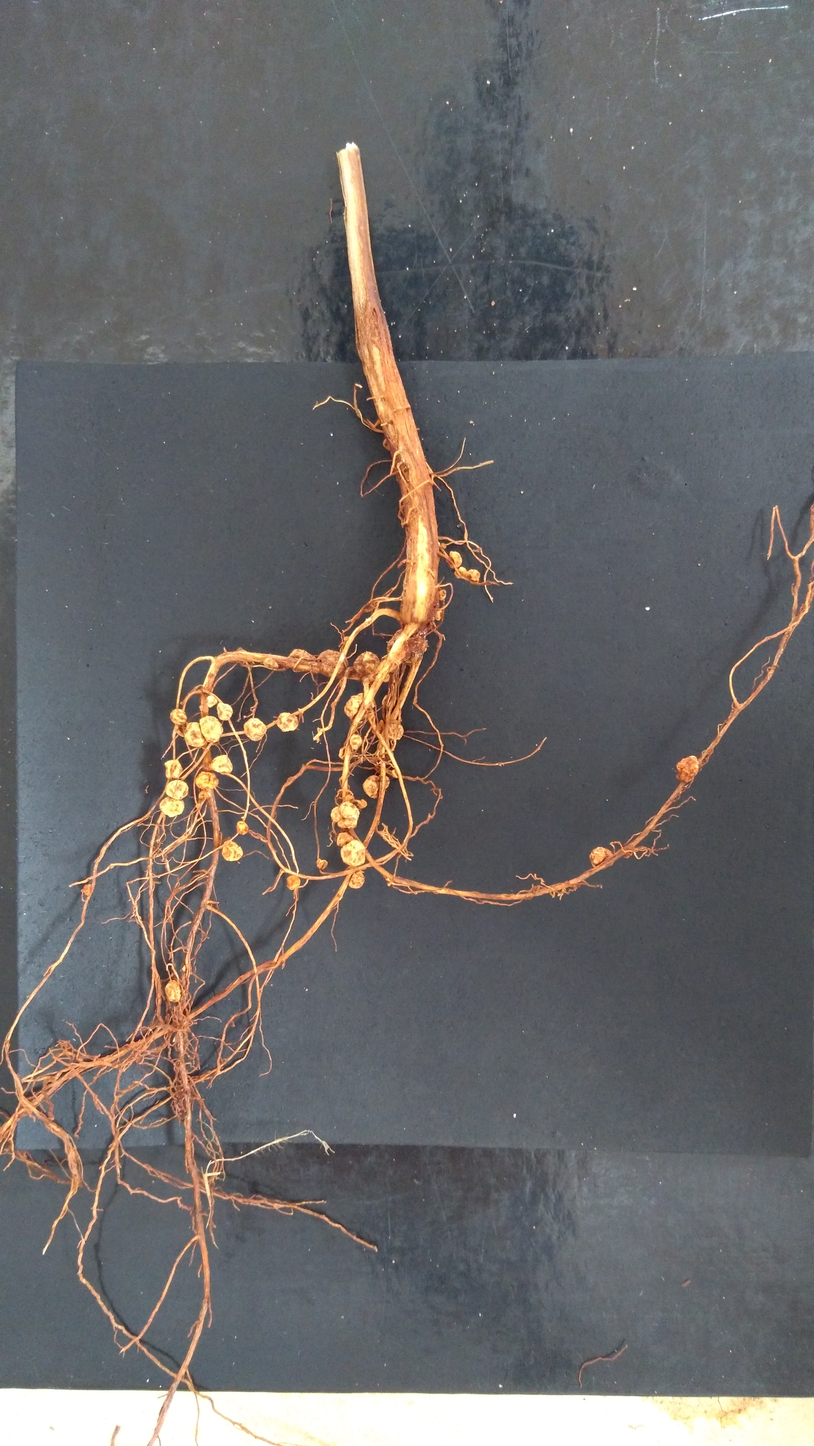nodule: (316, 649, 349, 679), (329, 800, 359, 830), (338, 838, 367, 866), (674, 754, 701, 784), (199, 716, 224, 743), (352, 651, 380, 675), (158, 795, 187, 818), (184, 721, 207, 749), (243, 717, 267, 743), (587, 845, 614, 868), (163, 779, 190, 800), (343, 694, 364, 721), (275, 711, 299, 734), (221, 839, 244, 863), (403, 634, 428, 654), (194, 771, 221, 789), (385, 628, 403, 655), (163, 978, 182, 1003), (211, 754, 234, 774), (362, 775, 381, 799), (163, 760, 185, 779), (289, 648, 316, 662), (348, 869, 366, 890), (216, 702, 234, 722), (168, 707, 188, 725), (285, 872, 302, 893), (387, 723, 405, 741), (356, 692, 375, 709), (336, 831, 354, 848), (447, 550, 463, 569), (173, 720, 189, 737), (466, 567, 480, 584), (262, 656, 279, 670), (349, 732, 362, 749), (382, 694, 396, 709), (197, 787, 213, 800), (453, 565, 467, 579), (236, 821, 249, 836), (205, 695, 218, 709), (316, 858, 329, 870), (437, 587, 447, 601), (82, 883, 92, 896), (357, 798, 368, 809), (434, 609, 443, 621), (384, 774, 391, 789), (338, 748, 346, 759), (391, 769, 399, 780), (382, 673, 390, 682), (195, 803, 202, 810)
